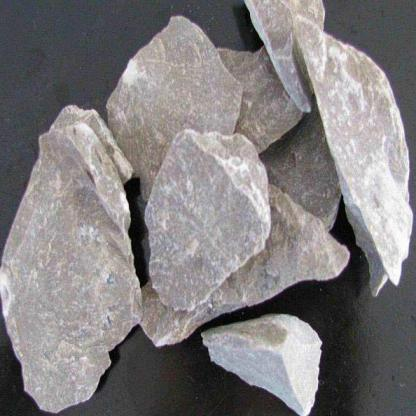Sedimentary_Limestone: (5, 112, 138, 414), (288, 20, 416, 291), (144, 132, 273, 294), (101, 10, 240, 152), (202, 317, 335, 415)
